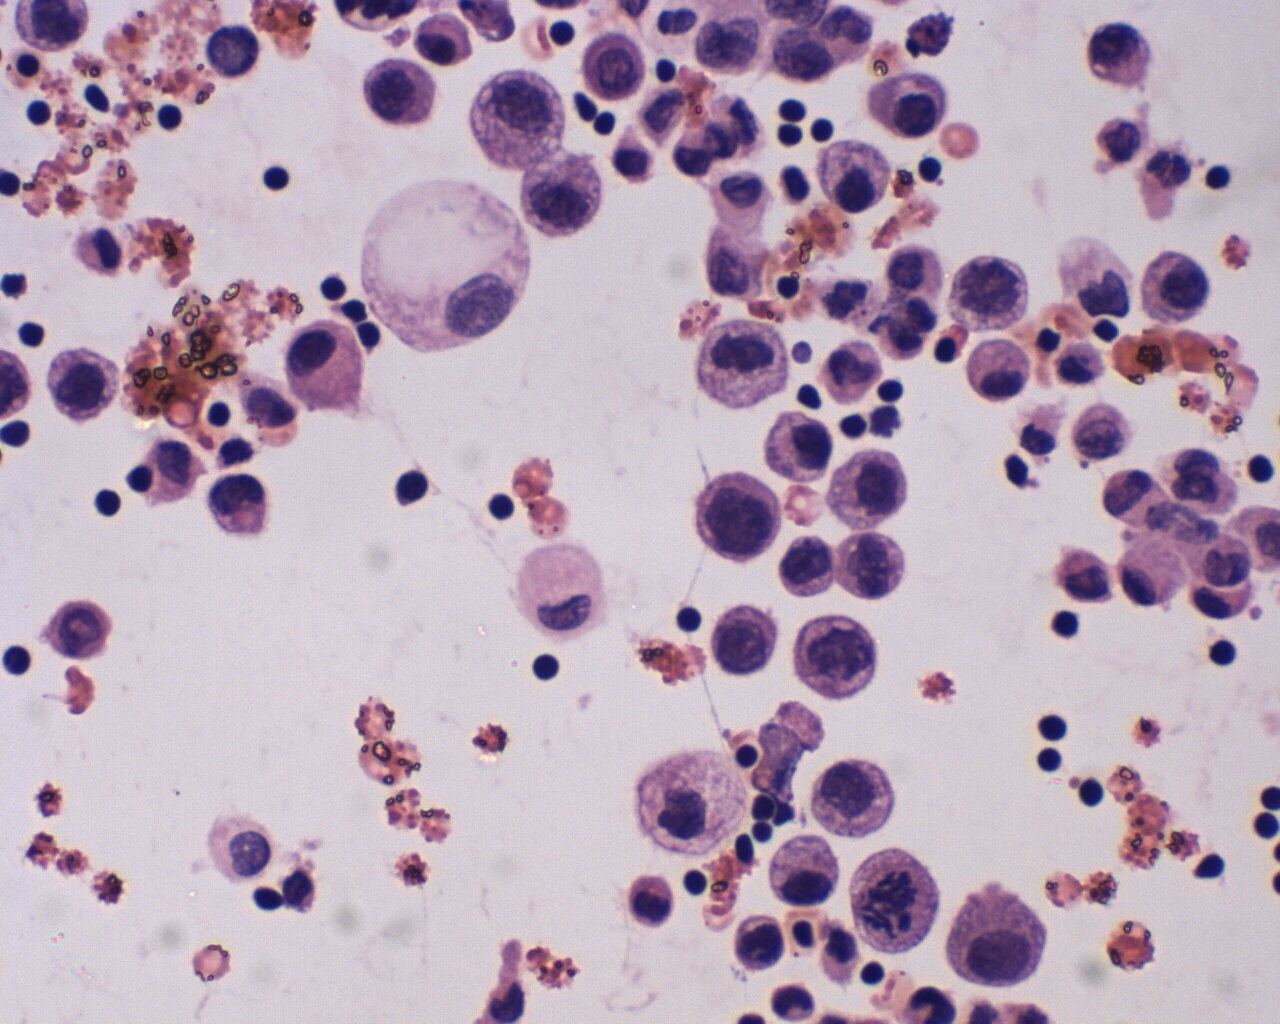ab: (938, 877, 1053, 993), (846, 845, 933, 962), (793, 609, 882, 709), (686, 472, 779, 566), (805, 750, 900, 841), (830, 442, 907, 535), (948, 248, 1034, 330), (42, 344, 126, 423), (830, 530, 914, 608), (359, 57, 442, 130), (711, 601, 782, 680), (1142, 249, 1212, 329), (580, 33, 652, 104), (778, 533, 836, 598)
histo: (356, 182, 534, 359), (506, 545, 610, 641)
lymph: (1029, 700, 1071, 744), (258, 160, 298, 196), (1244, 450, 1279, 489), (525, 650, 563, 683)
meso: (285, 319, 374, 416), (963, 338, 1039, 405)
